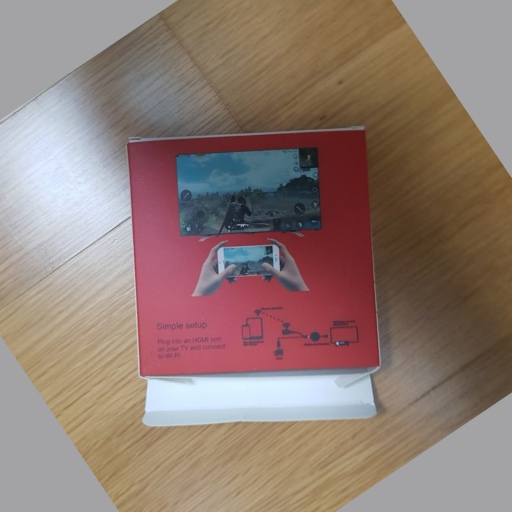Paper_0: (122, 122, 395, 429)
